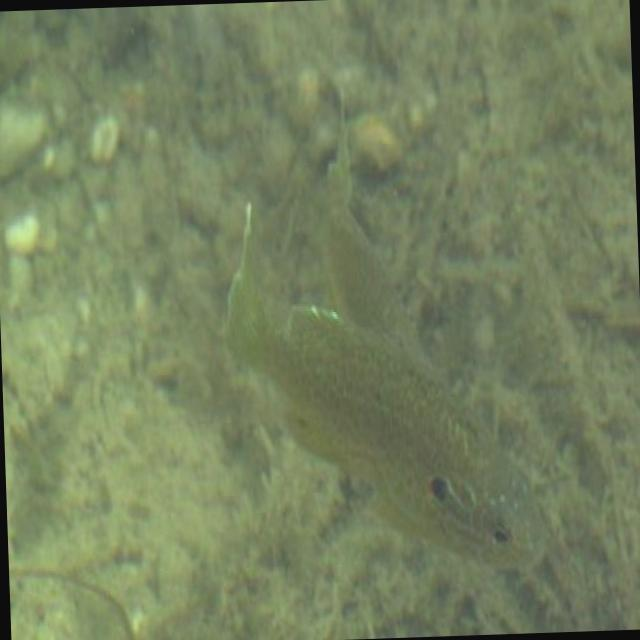Gunes Levregi: (217, 188, 548, 602)
